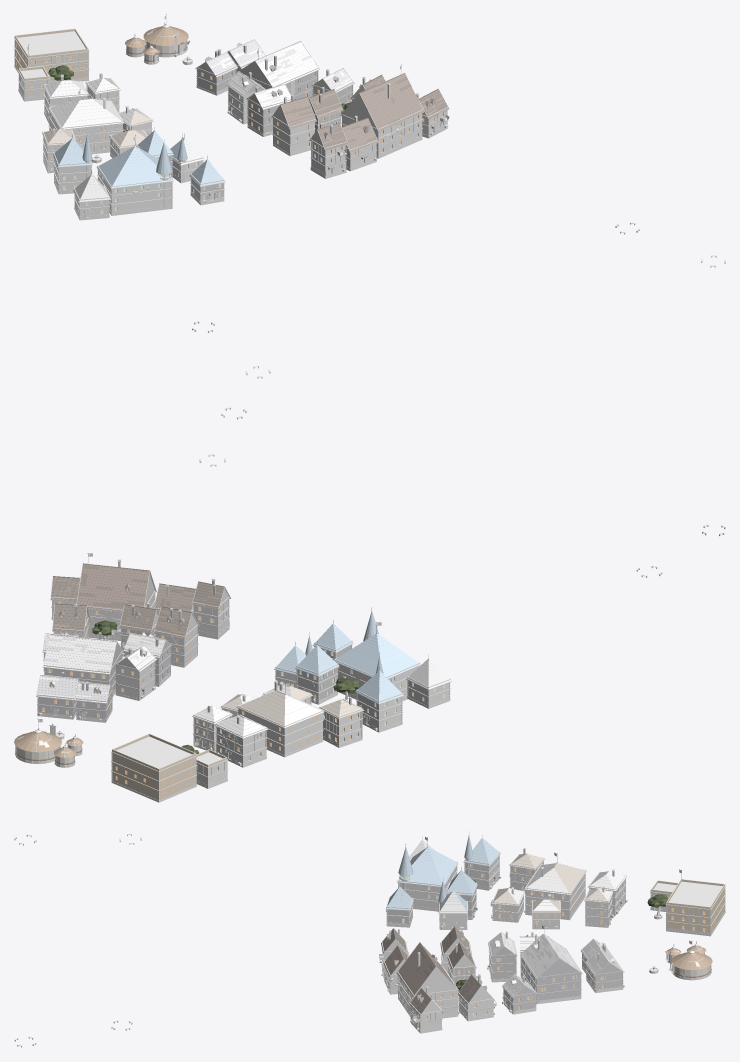
Rendered from concordia_razas.glb.
3 views of the same model, one above another, from view 1: azimuth 30°, elevation 25°; view 2: azimuth 150°, elevation 25°; view 3: azimuth 270°, elevation 25° (orthographic). The views are drawn at different scales.
Visible parts, largest first — view 1: CasaRaza_03_Roof, CasaRaza_04_Roof, CasaRaza_04_Body, CasaRaza_03_Body, CasaRaza_01_Roof, CasaRaza_02_Roof, CasaRaza_06_Roof, CasaRaza_06_Body, RAZ_B03_Casa_01_Body, RAZ_B03_Casa_04_Body, CasaRaza_02_Body, CasaRaza_05_Roof (+20 smaller); view 2: CasaRaza_03_Roof, CasaRaza_06_Body, CasaRaza_01_Roof, CasaRaza_04_Roof, CasaRaza_02_Body, CasaRaza_02_Roof, CasaRaza_06_Roof, RAZ_B02_Casa_01_Body, RAZ_B01_Casa_05_Body, RAZ_B04_Casa_01_Body, RAZ_B02_Casa_03_Body, RAZ_B03_Casa_04_Body (+26 smaller); view 3: CasaRaza_01_Body, CasaRaza_04_Roof, CasaRaza_06_Body, CasaRaza_03_Body, CasaRaza_02_Roof, CasaRaza_03_Roof, CasaRaza_01_Roof, CasaRaza_06_Roof, CasaRaza_02_Body, CasaRaza_04_Body, RAZ_B03_Casa_03_Body, RAZ_B01_Casa_02_Body (+30 smaller).
Part boxes in pixels (left/top/right/bottom): CasaRaza_03_Roof: left=340, top=73, right=423, bottom=132; CasaRaza_04_Roof: left=96, top=139, right=173, bottom=188; CasaRaza_04_Body: left=97, top=158, right=173, bottom=215; CasaRaza_03_Body: left=341, top=94, right=422, bottom=158; CasaRaza_01_Roof: left=236, top=41, right=319, bottom=87; CasaRaza_02_Roof: left=48, top=98, right=124, bottom=129; CasaRaza_06_Roof: left=14, top=28, right=88, bottom=57; CasaRaza_06_Body: left=14, top=37, right=89, bottom=82; RAZ_B03_Casa_01_Body: left=272, top=106, right=315, bottom=156; RAZ_B03_Casa_04_Body: left=310, top=131, right=347, bottom=178; CasaRaza_02_Body: left=48, top=100, right=123, bottom=154; CasaRaza_05_Roof: left=125, top=22, right=188, bottom=55; CasaRaza_03_Roof: left=76, top=559, right=156, bottom=613; CasaRaza_06_Body: left=111, top=751, right=197, bottom=802; CasaRaza_01_Roof: left=43, top=632, right=123, bottom=674; CasaRaza_04_Roof: left=334, top=607, right=420, bottom=679; CasaRaza_02_Body: left=237, top=690, right=324, bottom=757; CasaRaza_02_Roof: left=236, top=680, right=324, bottom=728; CasaRaza_06_Roof: left=112, top=733, right=196, bottom=771; RAZ_B02_Casa_01_Body: left=215, top=714, right=267, bottom=767; RAZ_B01_Casa_05_Body: left=115, top=652, right=155, bottom=700; RAZ_B04_Casa_01_Body: left=356, top=689, right=402, bottom=732; RAZ_B02_Casa_03_Body: left=319, top=698, right=363, bottom=747; RAZ_B03_Casa_04_Body: left=193, top=589, right=229, bottom=639; CasaRaza_01_Body: left=521, top=948, right=581, bottom=1004; CasaRaza_04_Roof: left=397, top=844, right=458, bottom=887; CasaRaza_06_Body: left=665, top=885, right=725, bottom=936; CasaRaza_03_Body: left=397, top=966, right=458, bottom=1018; CasaRaza_02_Roof: left=524, top=863, right=586, bottom=895; CasaRaza_03_Roof: left=396, top=942, right=459, bottom=997; CasaRaza_01_Roof: left=520, top=933, right=582, bottom=979; CasaRaza_06_Roof: left=666, top=879, right=725, bottom=909; CasaRaza_02_Body: left=525, top=864, right=585, bottom=920; CasaRaza_04_Body: left=397, top=856, right=457, bottom=911; RAZ_B03_Casa_03_Body: left=458, top=986, right=496, bottom=1021; RAZ_B01_Casa_02_Body: left=586, top=958, right=623, bottom=993.
Size of what is drawn, in the model's own units: 175 by 24.25 by 249.
Materials: 33 (28 with a texture image).
